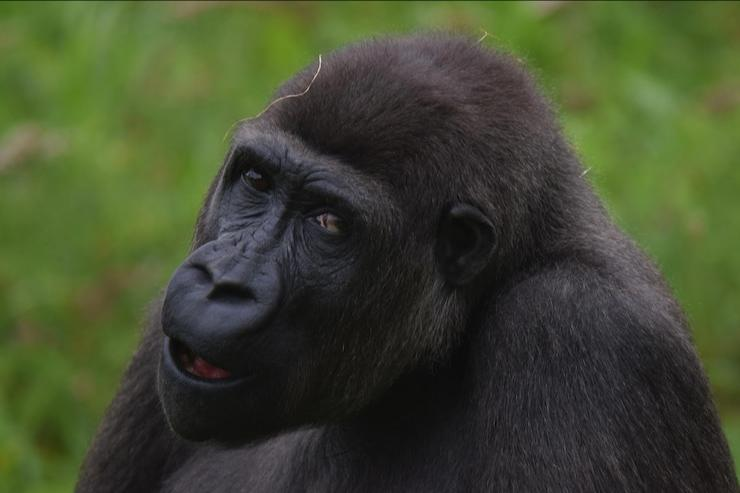gorille_Autres: (96, 1, 719, 493)
